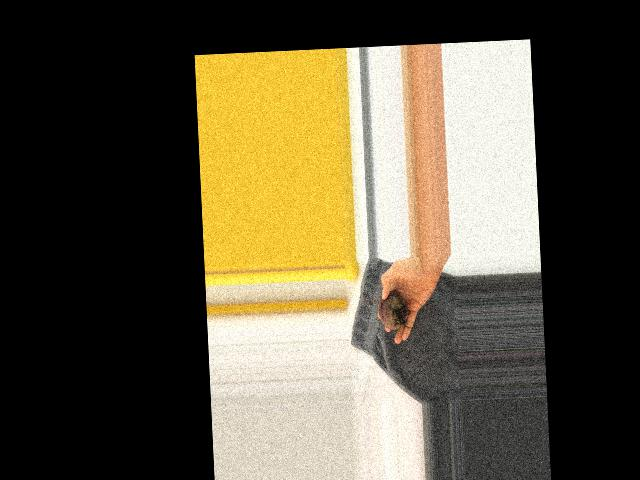beet: (358, 290, 409, 330)
